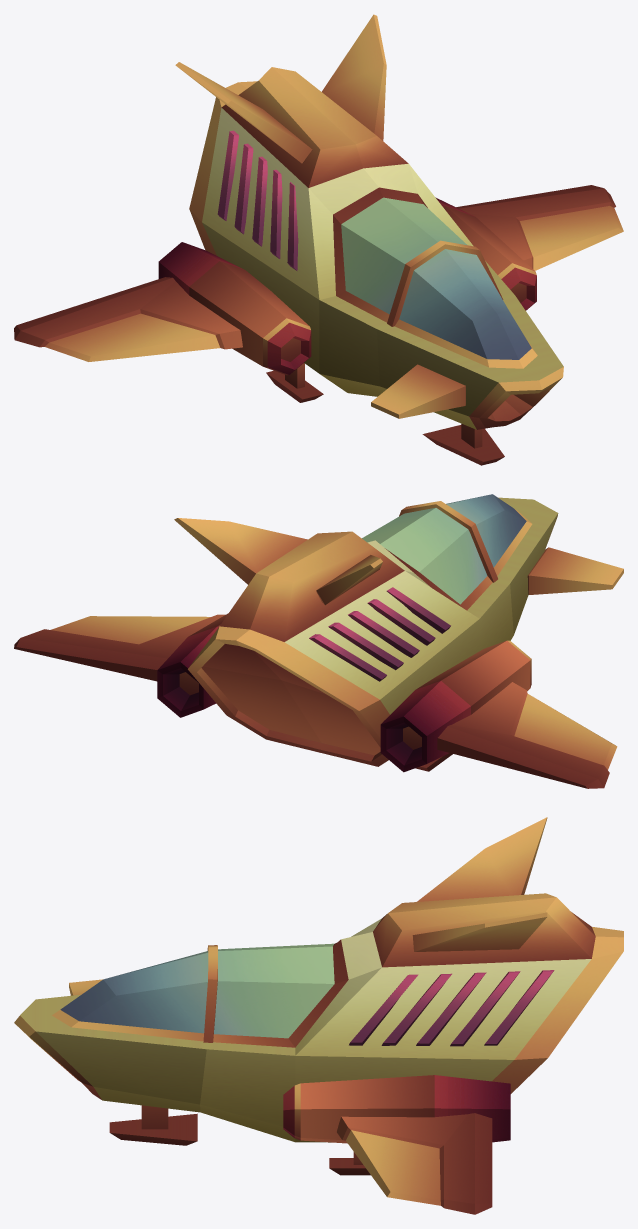
Rendered from Spaceship_B_skin2.FBX.
3 renders of one model, top to bottom at view 1: azimuth 30°, elevation 25°; view 2: azimuth 150°, elevation 25°; view 3: azimuth 270°, elevation 25°, orthographic.
Parts seen in each view (by area): view 1: spaceship_b_skin2, wing_b_skin2 (×2), reactor_b_skin2 (×2), flaps_b_skin2 (×3), Landing_gear_b_skin2 (×2); view 2: spaceship_b_skin2, wing_b_skin2 (×2), reactor_b_skin2 (×2), flaps_b_skin2 (×3); view 3: spaceship_b_skin2, wing_b_skin2, reactor_b_skin2, flaps_b_skin2 (×2), Landing_gear_b_skin2 (×2).
Boxes of the visible parts, x1,y1,x2,y2 form: spaceship_b_skin2: (189, 67, 563, 429); wing_b_skin2 (×2): (14, 185, 623, 361); reactor_b_skin2 (×2): (158, 197, 536, 375); flaps_b_skin2 (×3): (175, 14, 465, 418); Landing_gear_b_skin2 (×2): (266, 363, 504, 465); spaceship_b_skin2: (188, 494, 558, 766); wing_b_skin2 (×2): (14, 614, 617, 788); reactor_b_skin2 (×2): (157, 613, 531, 772); flaps_b_skin2 (×3): (174, 518, 623, 605); spaceship_b_skin2: (14, 893, 623, 1142); wing_b_skin2: (337, 1113, 492, 1214); reactor_b_skin2: (283, 1075, 510, 1143); flaps_b_skin2 (×2): (412, 817, 547, 951); Landing_gear_b_skin2 (×2): (109, 1105, 370, 1175).
Size of the model in its own units: 13.67 by 5.93 by 12.07.
